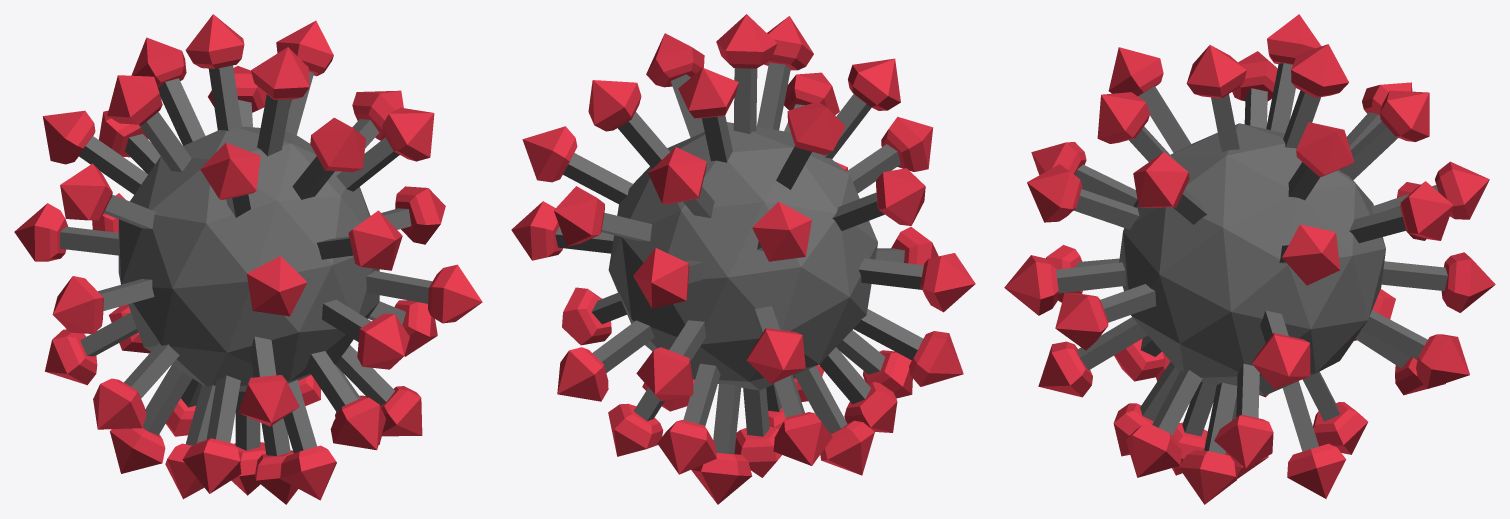
File: virus.fbx
The picture shows the model from 3 angles, left to right: view 1: azimuth 30°, elevation 25°; view 2: azimuth 150°, elevation 25°; view 3: azimuth 270°, elevation 25°; orthographic projection.
Visible parts, largest first — view 1: corona; view 2: corona; view 3: corona.
Part boxes in pixels (<box>): corona: <box>14,14,482,504</box>; corona: <box>511,14,975,504</box>; corona: <box>1004,14,1495,504</box>.
Bounding box in the file's own units: 362 × 362 × 359.
